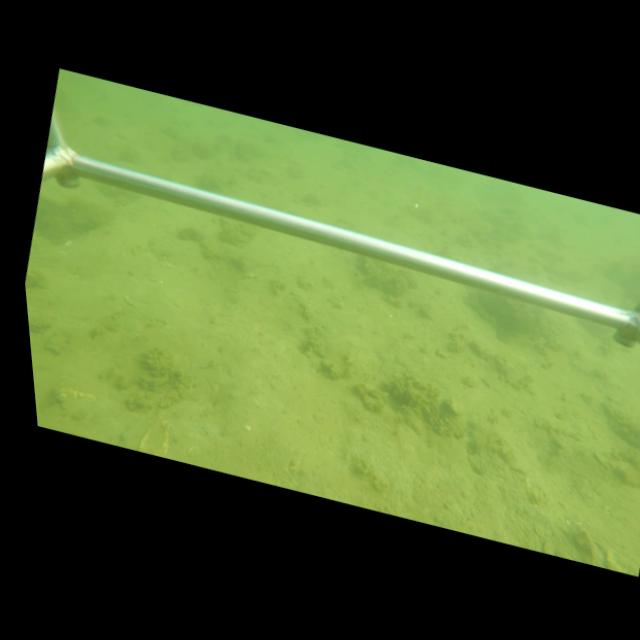Oyster-Indeterminate: (467, 452, 486, 474)
